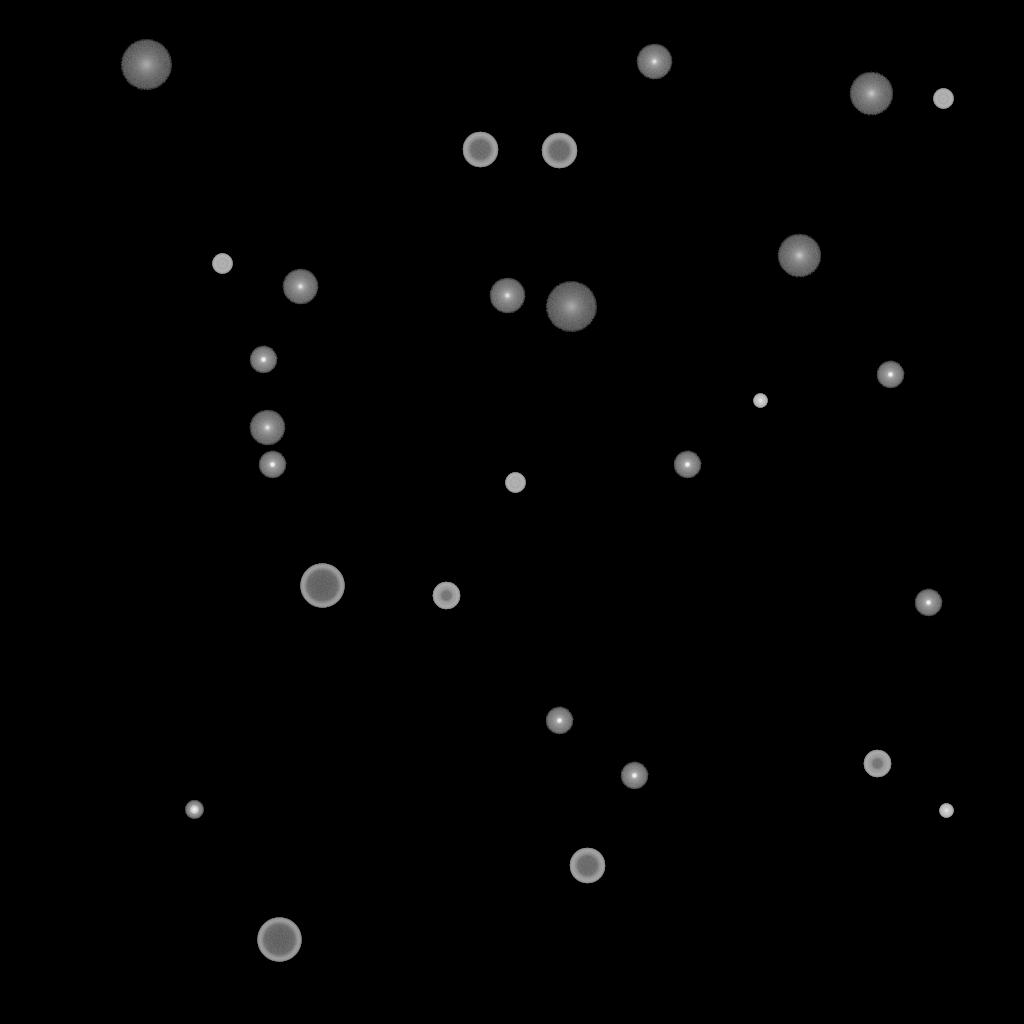depth:-10: (620, 762, 648, 790), (249, 346, 277, 374), (545, 707, 573, 735), (914, 589, 942, 617), (876, 361, 904, 389), (673, 451, 701, 479), (258, 451, 286, 479)
depth:-20: (185, 801, 203, 819)
depth:-30: (939, 804, 953, 818), (753, 394, 767, 408)
depth:-40: (505, 473, 525, 493), (933, 89, 953, 109), (212, 254, 232, 274)
depth:-50: (432, 582, 460, 610), (863, 750, 891, 778)
depth:-60: (569, 848, 605, 884), (541, 133, 577, 169), (462, 132, 498, 168)
depth:-70: (257, 918, 301, 962), (300, 564, 344, 608)
depth:0: (249, 410, 285, 446), (636, 44, 672, 80), (489, 278, 525, 314), (282, 269, 318, 305)
depth:10: (849, 72, 893, 116), (777, 234, 821, 278)
depth:20: (120, 40, 172, 90), (545, 282, 597, 332)
